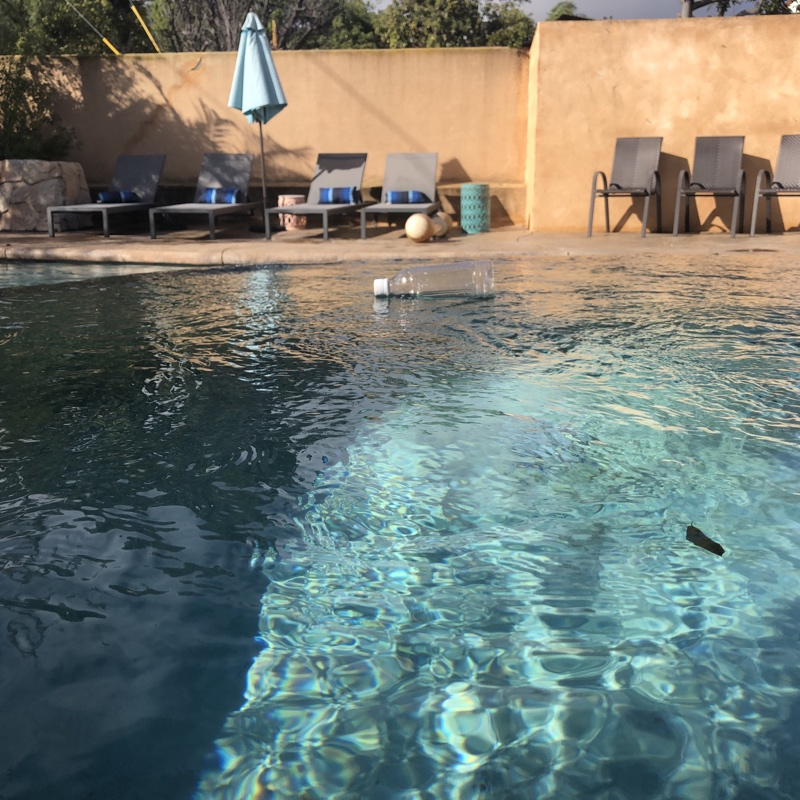Plastic Bottle: (371, 259, 503, 302)
